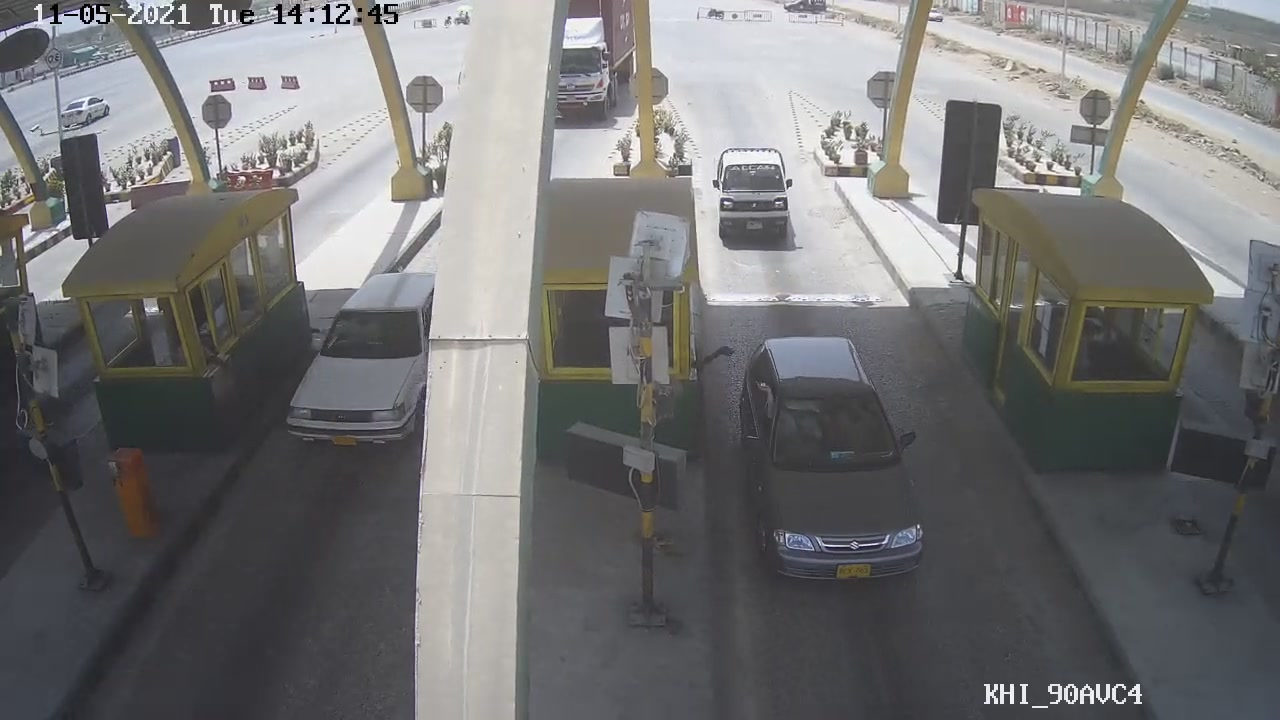F1: (728, 329, 937, 581)
